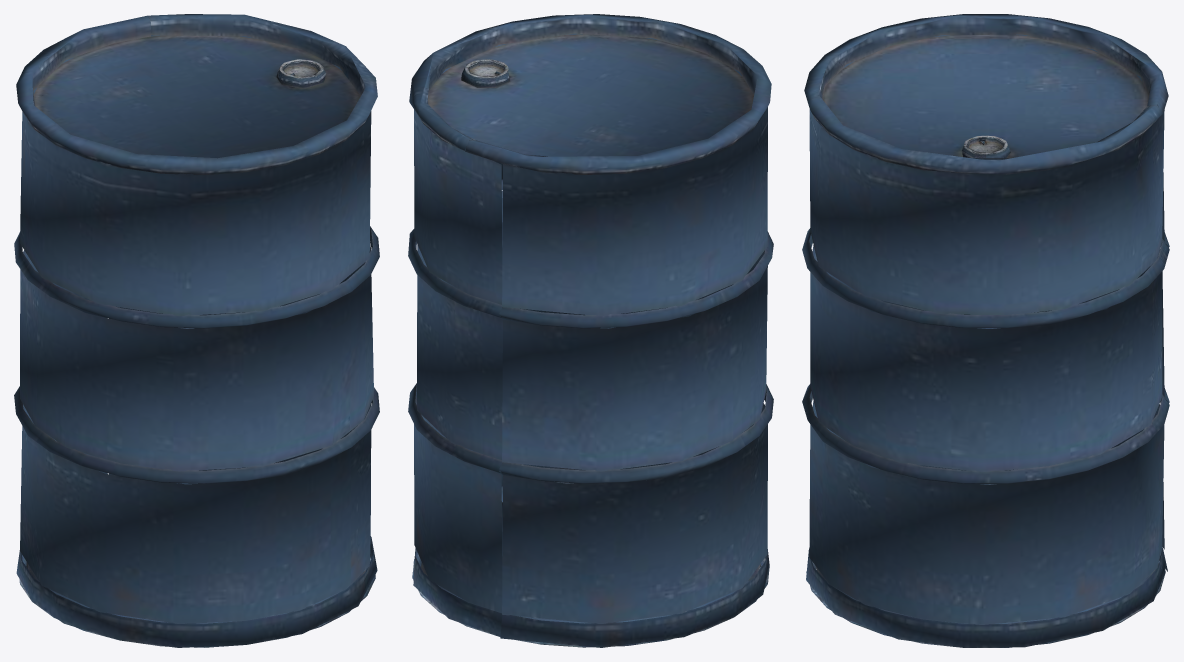
Rendered from barrel-medium.glb.
3 renders of one model, left to right at view 1: azimuth 30°, elevation 25°; view 2: azimuth 150°, elevation 25°; view 3: azimuth 270°, elevation 25°, orthographic.
Visible parts, largest first — view 1: barrel_03 baked; view 2: barrel_03 baked; view 3: barrel_03 baked.
Part boxes in pixels (x1,y1,x2,y2): barrel_03 baked: [14, 14, 379, 647]; barrel_03 baked: [408, 14, 773, 647]; barrel_03 baked: [802, 14, 1169, 647].
Size of the model in its own units: 0.6334 by 0.9305 by 0.6379.
1 material, 1 textured.
